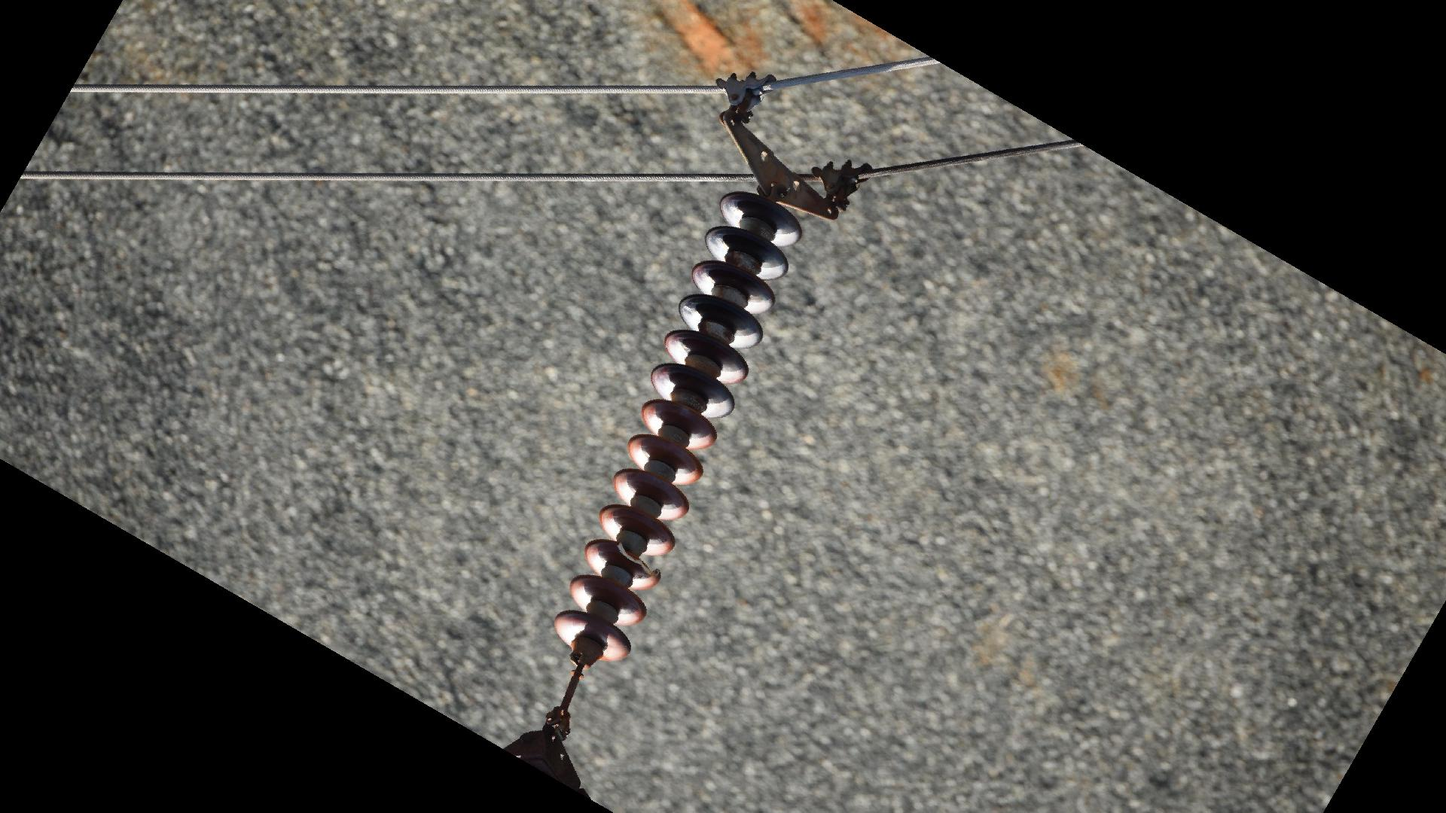insulator: (548, 185, 806, 679)
insulator_breakage: (610, 539, 667, 583)
